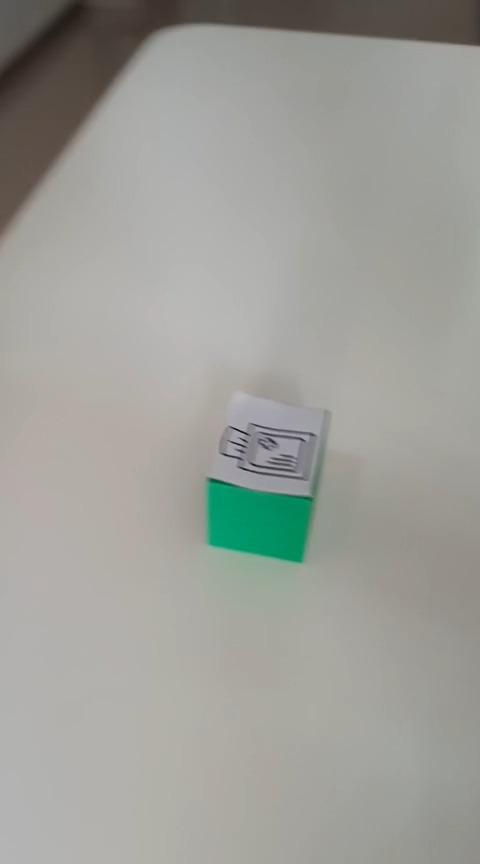Gauze: (203, 388, 331, 564)
